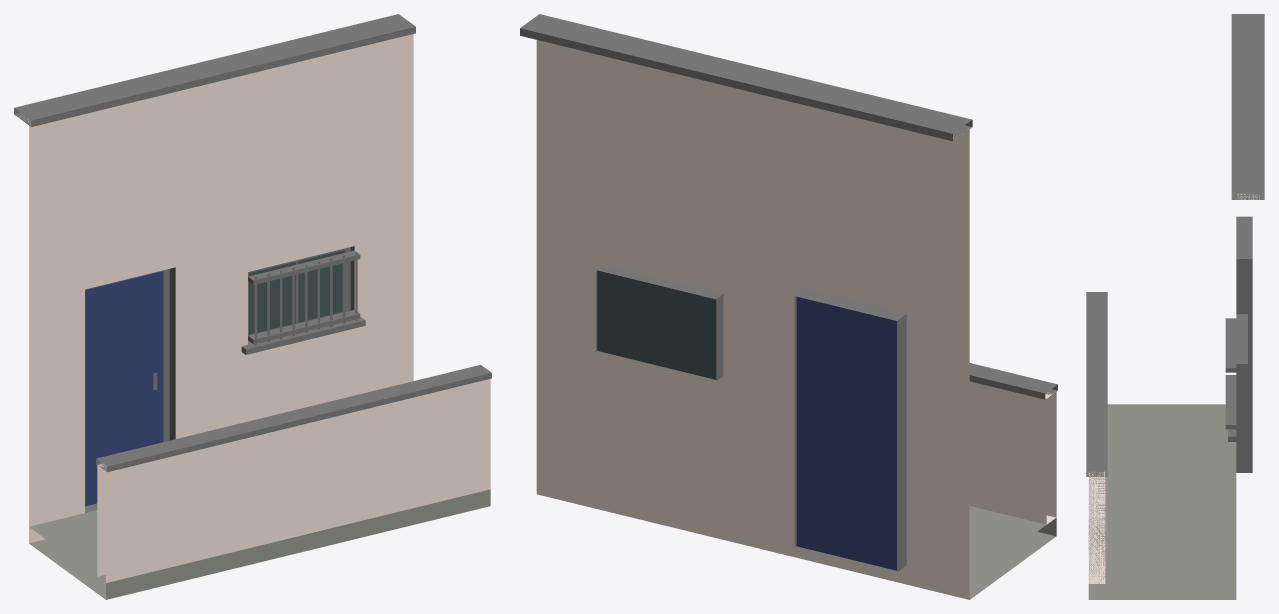
The model's file is top-w3.fbx.
The picture shows the model from 3 angles, left to right: view 1: azimuth 30°, elevation 25°; view 2: azimuth 150°, elevation 25°; view 3: azimuth 270°, elevation 25°; orthographic projection. The views are drawn at different scales.
Visible parts, largest first — view 1: a2001/200/top-w3; view 2: a2001/200/top-w3; view 3: a2001/200/top-w3.
Boxes of the visible parts, x1,y1,x2,y2 form: a2001/200/top-w3: (14, 14, 491, 599); a2001/200/top-w3: (520, 14, 1057, 599); a2001/200/top-w3: (1086, 14, 1264, 599).
Bounding box in the file's own units: 3.6 × 3.8 × 1.51.
